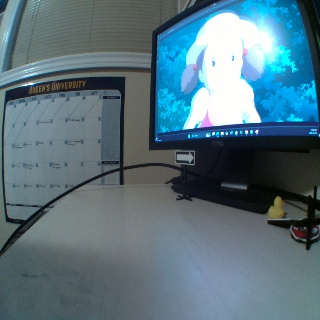sign_oneway_right: (176, 149, 195, 165)
